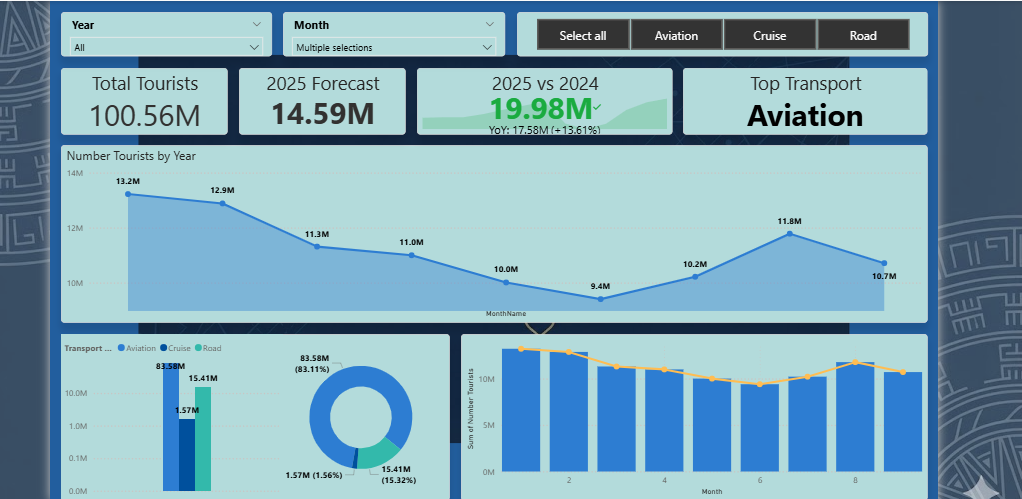

Layout of this report page (visuals, bound fields, positions):
{"tool":"powerbi","page":{"name":"OVERVIEW","canvas":[1280,720],"ordinal":0},"visuals":[{"type":"areaChart","title":"Number Tourists by Year","fields":{"Y":["Sum(monthly_vietnam_tourists.Number Tourists)"],"Category":["DateTable.Date Hierarchy.Year","DateTable.Date Hierarchy.MonthName"]},"box":[16,208,1248,256],"z":0},{"type":"donutChart","fields":{"Category":["monthly_vietnam_tourists.Transport Type"],"Y":["Sum(monthly_vietnam_tourists.Number Tourists)"]},"box":[320,480,256,240],"z":1000},{"type":"clusteredColumnChart","fields":{"Y":["Sum(monthly_vietnam_tourists.Number Tourists)"],"Series":["monthly_vietnam_tourists.Transport Type"]},"box":[16,480,320,240],"z":2000},{"type":"slicer","fields":{"Values":["monthly_vietnam_tourists.Transport Type"]},"box":[672,16,592,64],"z":3000},{"type":"card","title":"Total Tourists","fields":{"Values":["Sum(monthly_vietnam_tourists.Number Tourists)"]},"box":[16,96,240,96],"z":4000},{"type":"kpi","fields":{"Indicator":["monthly_vietnam_tourists.Total Tourists (Selected Year)"],"Goal":["monthly_vietnam_tourists.Total Tourists (Prev Year)"],"TrendLine":["monthly_vietnam_tourists.Year"]},"box":[528,96,368,96],"z":5000},{"type":"slicer","fields":{"Values":["monthly_vietnam_tourists.Month"]},"box":[336,16,320,64],"z":6000},{"type":"slicer","fields":{"Values":["DateTable.Year"]},"box":[16,16,304,64],"z":7000},{"type":"lineClusteredColumnComboChart","fields":{"Category":["DateTable.Month"],"Y":["Sum(monthly_vietnam_tourists.Number Tourists)"],"Y2":["Sum(monthly_vietnam_tourists.Number Tourists)"]},"box":[592,480,672,240],"z":8000},{"type":"card","title":"2025 Forecast","fields":{"Values":["monthly_vietnam_tourists.Tourists_2025"]},"box":[272,96,240,96],"z":9000},{"type":"card","title":"Top Transport","fields":{"Values":["Min(monthly_vietnam_tourists.Transport Type)"]},"box":[912,96,352,96],"z":10000}]}

Visuals, with their boxes on the page's 1280x720 design canvas (x1, y1, x2, y2). These are canvas units, not pixel positions in the 1022x499 screenshot, which may show the page scaled, cropped or inside an application window:
"Number Tourists by Year" areaChart: detection(16, 208, 1264, 464)
donutChart - monthly_vietnam_tourists.Transport Type x Sum(monthly_vietnam_tourists.Number Tourists): detection(320, 480, 576, 720)
clusteredColumnChart - Sum(monthly_vietnam_tourists.Number Tourists) x monthly_vietnam_tourists.Transport Type: detection(16, 480, 336, 720)
slicer - monthly_vietnam_tourists.Transport Type: detection(672, 16, 1264, 80)
"Total Tourists" card: detection(16, 96, 256, 192)
kpi - monthly_vietnam_tourists.Total Tourists (Selected Year) x monthly_vietnam_tourists.Total Tourists (Prev Year): detection(528, 96, 896, 192)
slicer - monthly_vietnam_tourists.Month: detection(336, 16, 656, 80)
slicer - DateTable.Year: detection(16, 16, 320, 80)
lineClusteredColumnComboChart - DateTable.Month x Sum(monthly_vietnam_tourists.Number Tourists): detection(592, 480, 1264, 720)
"2025 Forecast" card: detection(272, 96, 512, 192)
"Top Transport" card: detection(912, 96, 1264, 192)
